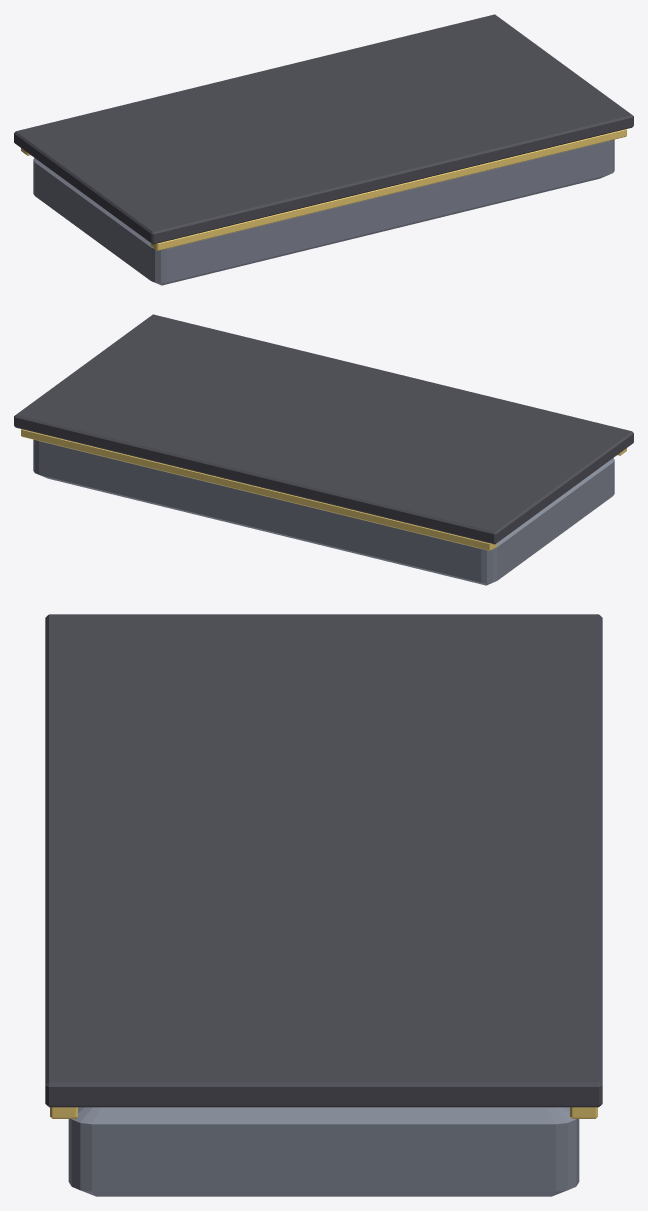
The model's file is cinema-multiplex-and-foyer-ceiling-light-coffer-50595460__34685.glb.
The picture shows the model from 3 angles, top to bottom: view 1: azimuth 30°, elevation 25°; view 2: azimuth 150°, elevation 25°; view 3: azimuth 270°, elevation 25°; orthographic projection. The views are drawn at different scales.
Visible parts, largest first — view 1: ceiling-light-coffer; view 2: ceiling-light-coffer; view 3: ceiling-light-coffer.
Part boxes in pixels (x1,y1,x2,y2): ceiling-light-coffer: [14, 14, 633, 285]; ceiling-light-coffer: [14, 314, 633, 585]; ceiling-light-coffer: [45, 614, 602, 1196].
Size of the model in its own units: 2.4 by 0.32 by 1.2.
